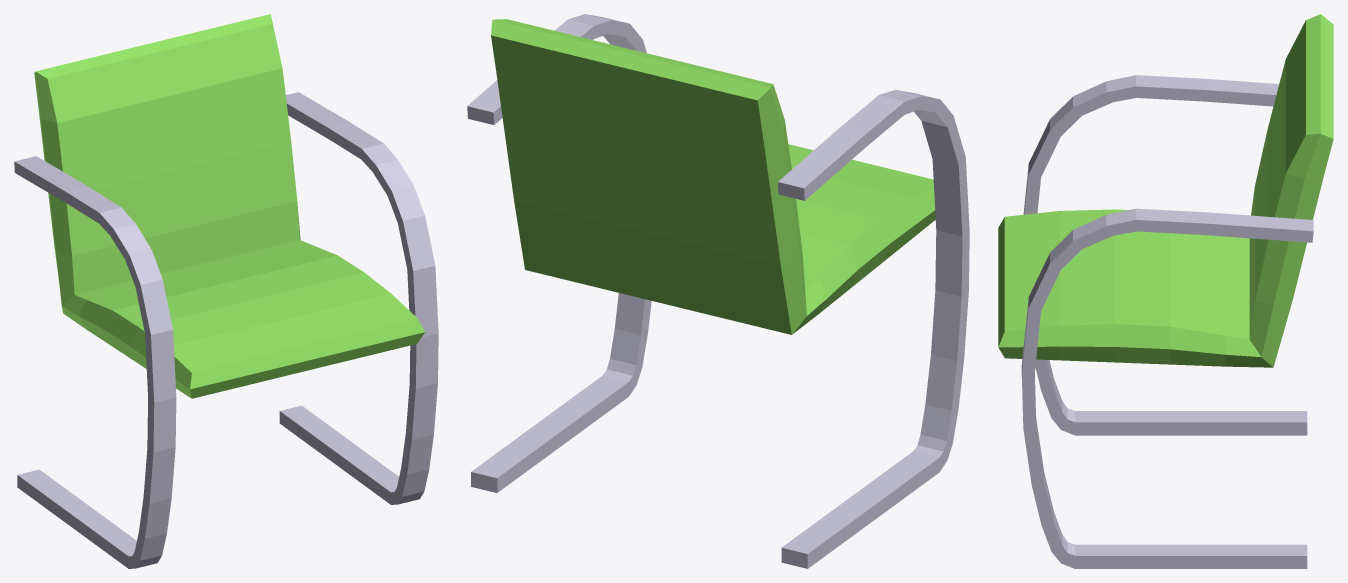
The model's file is lounge_chair.glb.
3 renders of one model, left to right at view 1: azimuth 30°, elevation 25°; view 2: azimuth 150°, elevation 25°; view 3: azimuth 270°, elevation 25°, orthographic. The views are drawn at different scales.
Visible parts, largest first — view 1: Lounge Chair1; view 2: Lounge Chair1; view 3: Lounge Chair1.
Part boxes in pixels (<box>): Lounge Chair1: <box>14,14,438,568</box>; Lounge Chair1: <box>467,14,969,568</box>; Lounge Chair1: <box>998,14,1333,568</box>.
Size of the model in its own units: 0.7132 by 0.9711 by 0.698.
